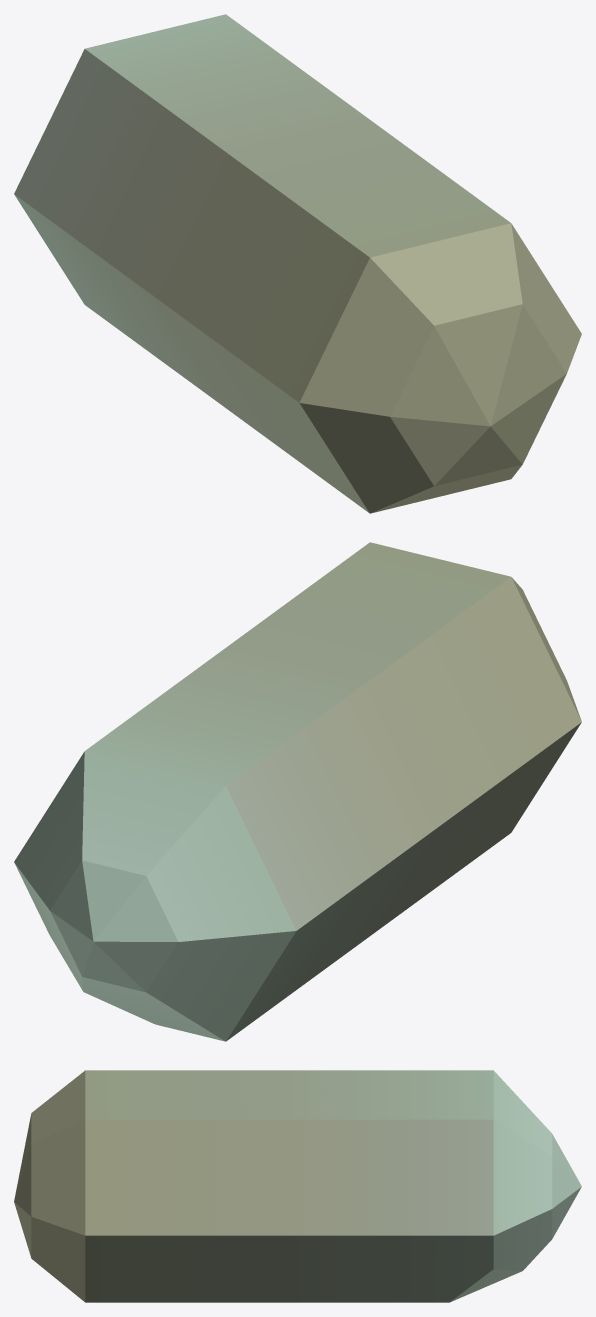
File: ColoredCrystal.013.glb
3 views of the same model, one above another, from view 1: azimuth 30°, elevation 25°; view 2: azimuth 150°, elevation 25°; view 3: azimuth 270°, elevation 25° (orthographic). The views are drawn at different scales.
Visible parts, largest first — view 1: ColoredCrystal.013; view 2: ColoredCrystal.013; view 3: ColoredCrystal.013.
Boxes of the visible parts, x1=… form: ColoredCrystal.013: x1=14, y1=14, x2=581, y2=513; ColoredCrystal.013: x1=14, y1=542, x2=581, y2=1041; ColoredCrystal.013: x1=14, y1=1070, x2=581, y2=1302.
Size of the model in its own units: 300 by 259 by 729.
